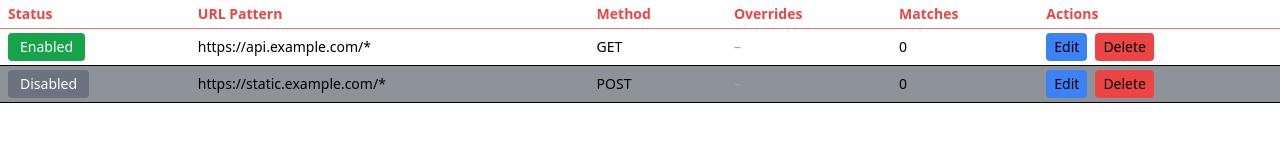
Test: <RuleTable /> › deletes a rule when the delete button is clicked
Click the button "Delete" in the row of "https://api.example.com/*" at (1125, 47), box [1095,33,1154,61]
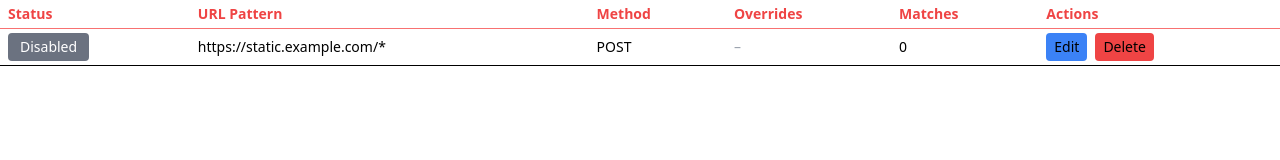
Check: the number of rows is 2, box [0,0,1279,28]; [0,28,1279,66]
Check: the text "https://api.example.com/*" is gone
